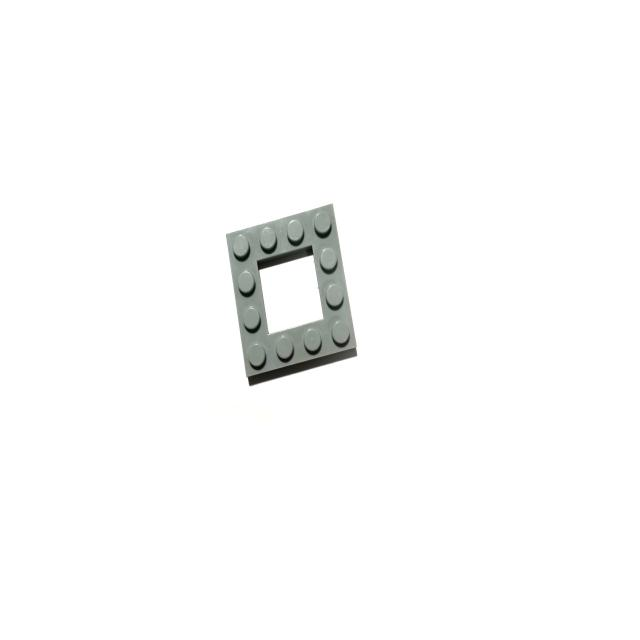White_Medium: (225, 201, 356, 380)
